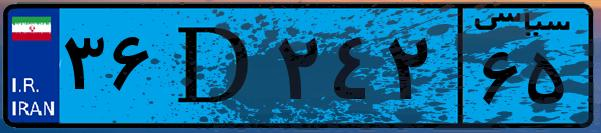2: (270, 28, 330, 110), (385, 28, 445, 110)
3: (57, 26, 110, 100)
4: (330, 28, 385, 110)
5: (525, 38, 570, 115)
6: (475, 38, 525, 113), (110, 28, 158, 98)
D: (158, 12, 270, 120)
